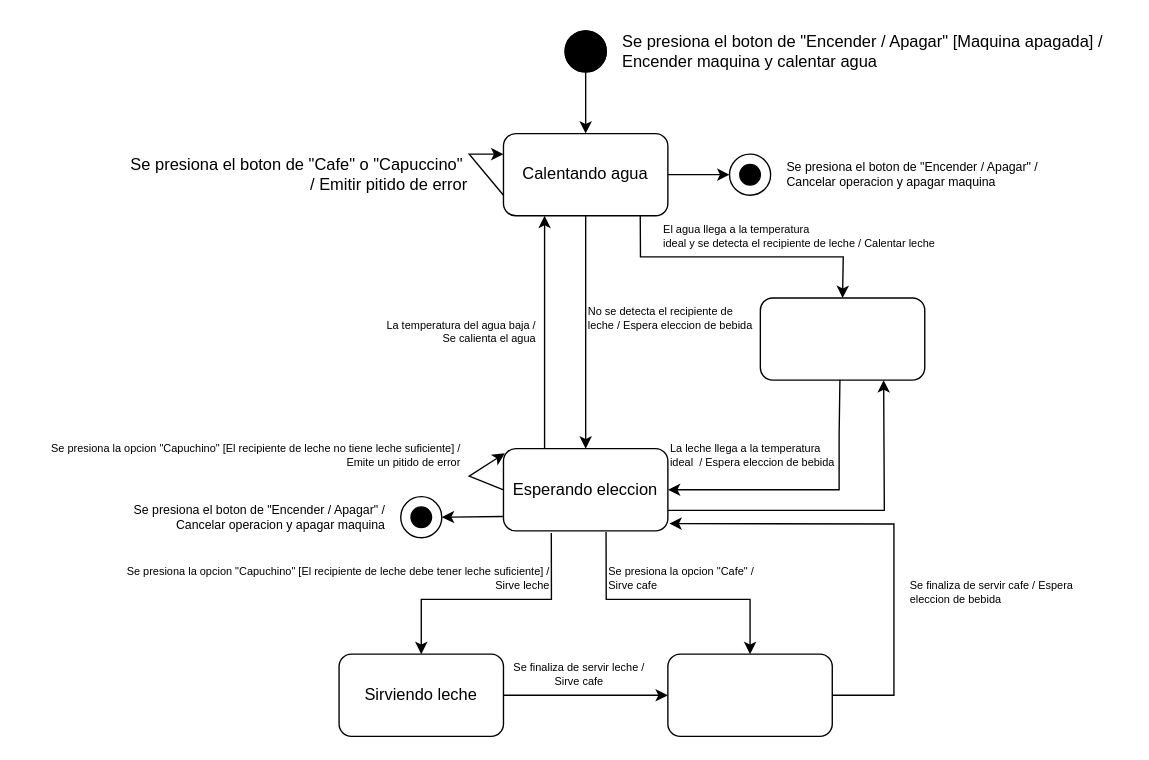
The diagram is 1149 pixels wide and 760 high, and some of its shapes have lost their labels. The centre of each missing label's shape, as x and y in pixels:
Calentando leche: [842,338]
Sirviendo cafe: [749,694]
